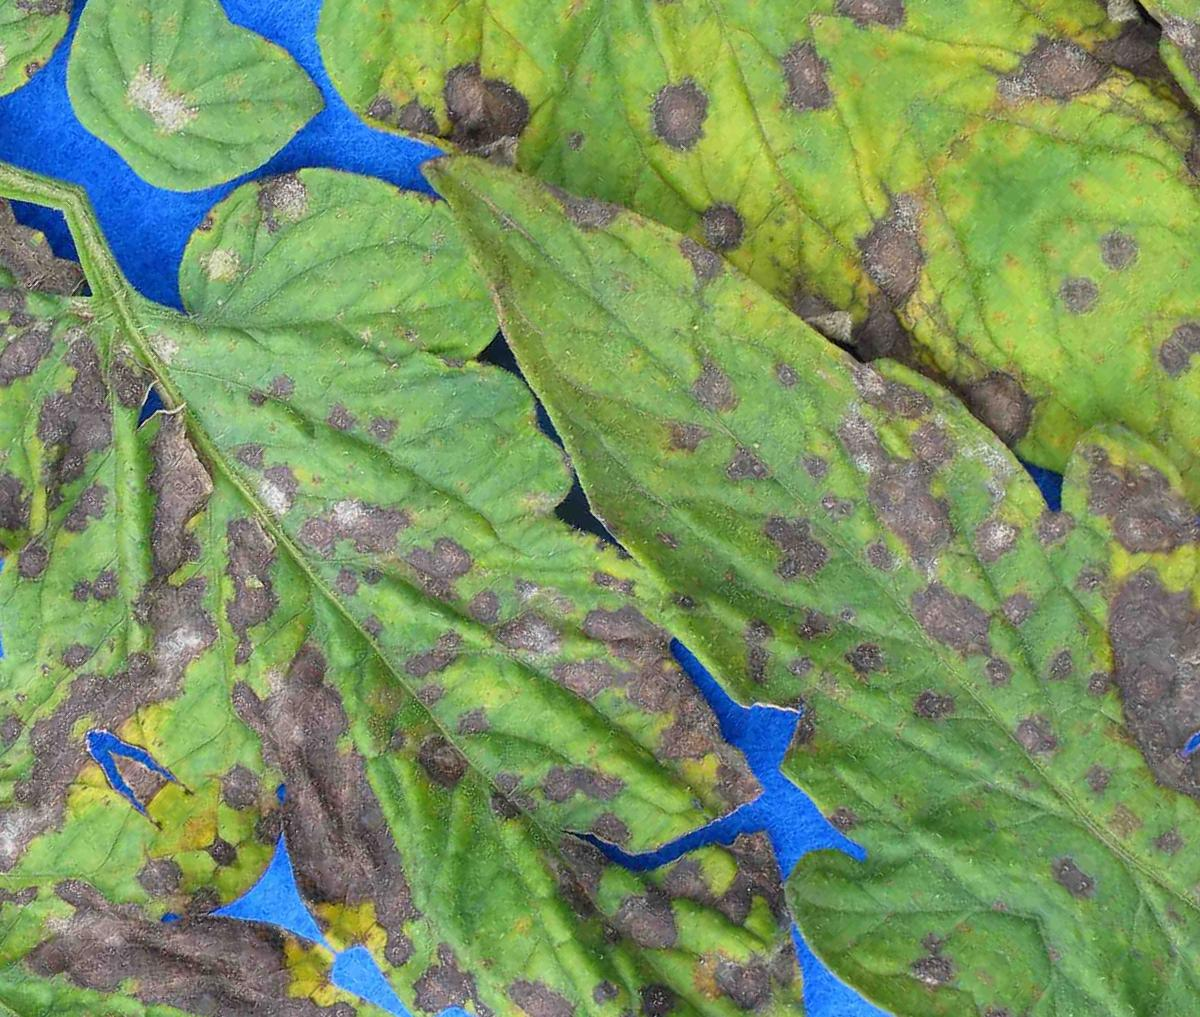Tomato Septoria leaf spot: (0, 10, 1095, 1017), (168, 0, 1200, 1017), (246, 0, 1200, 824)
